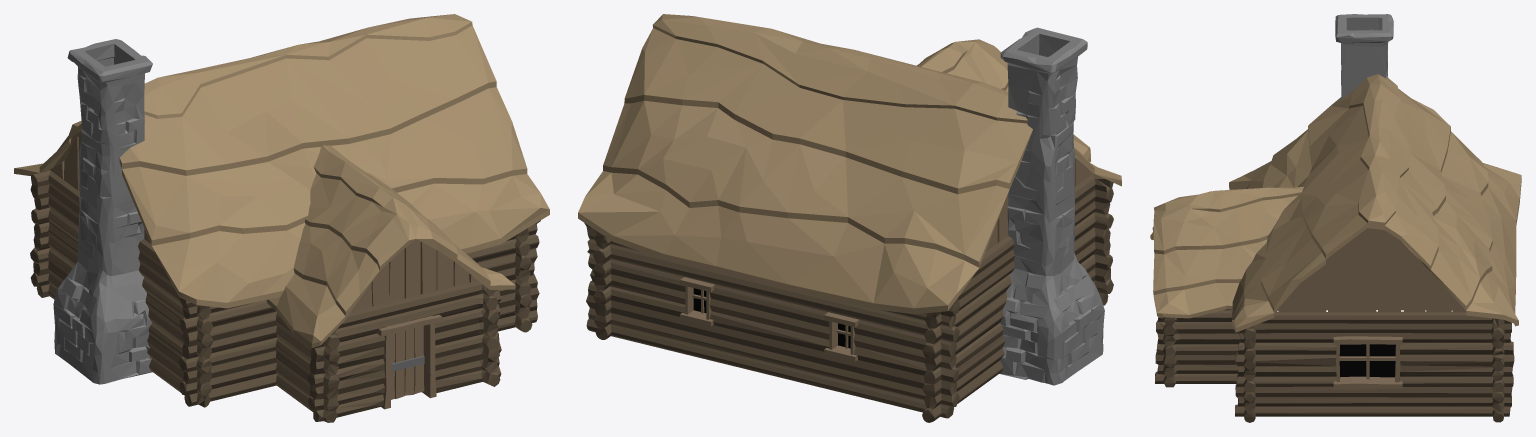
Rendered from village_wood_house_d.FBX.
3 views of the same model, side by side, from view 1: azimuth 30°, elevation 25°; view 2: azimuth 150°, elevation 25°; view 3: azimuth 270°, elevation 25° (orthographic). The views are drawn at different scales.
Parts seen in each view (by area): view 1: village_wood_house_d; view 2: village_wood_house_d; view 3: village_wood_house_d.
Part boxes in pixels (left/top/right/bottom): village_wood_house_d: left=14, top=14, right=549, bottom=422; village_wood_house_d: left=578, top=14, right=1121, bottom=422; village_wood_house_d: left=1150, top=14, right=1521, bottom=422.
Size of the model in its own units: 10.8 by 7.8 by 10.34.
